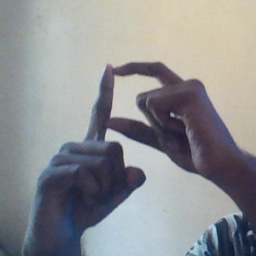D: (65, 57, 203, 175)
